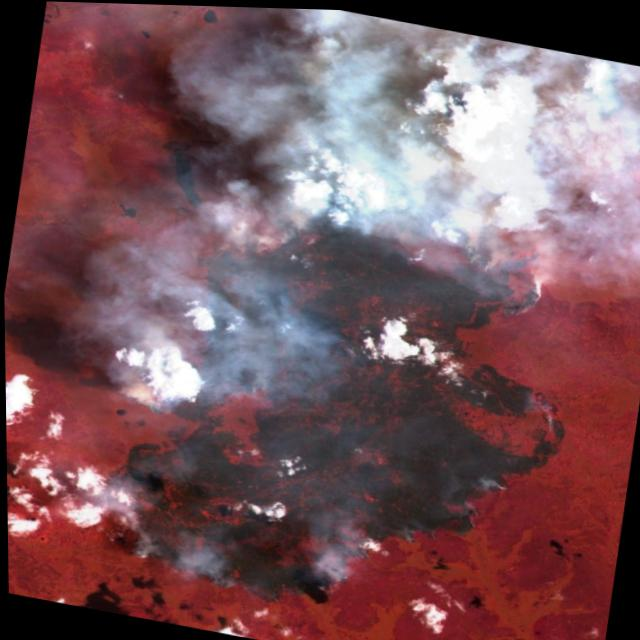fire: (91, 2, 588, 640)
